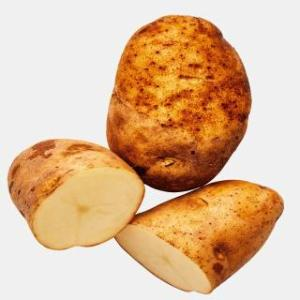potato: (111, 15, 252, 190), (117, 180, 285, 294), (9, 140, 148, 250)
